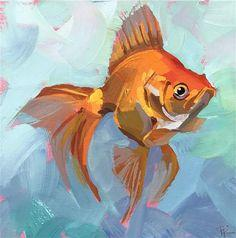goldfish: (42, 28, 222, 176)
